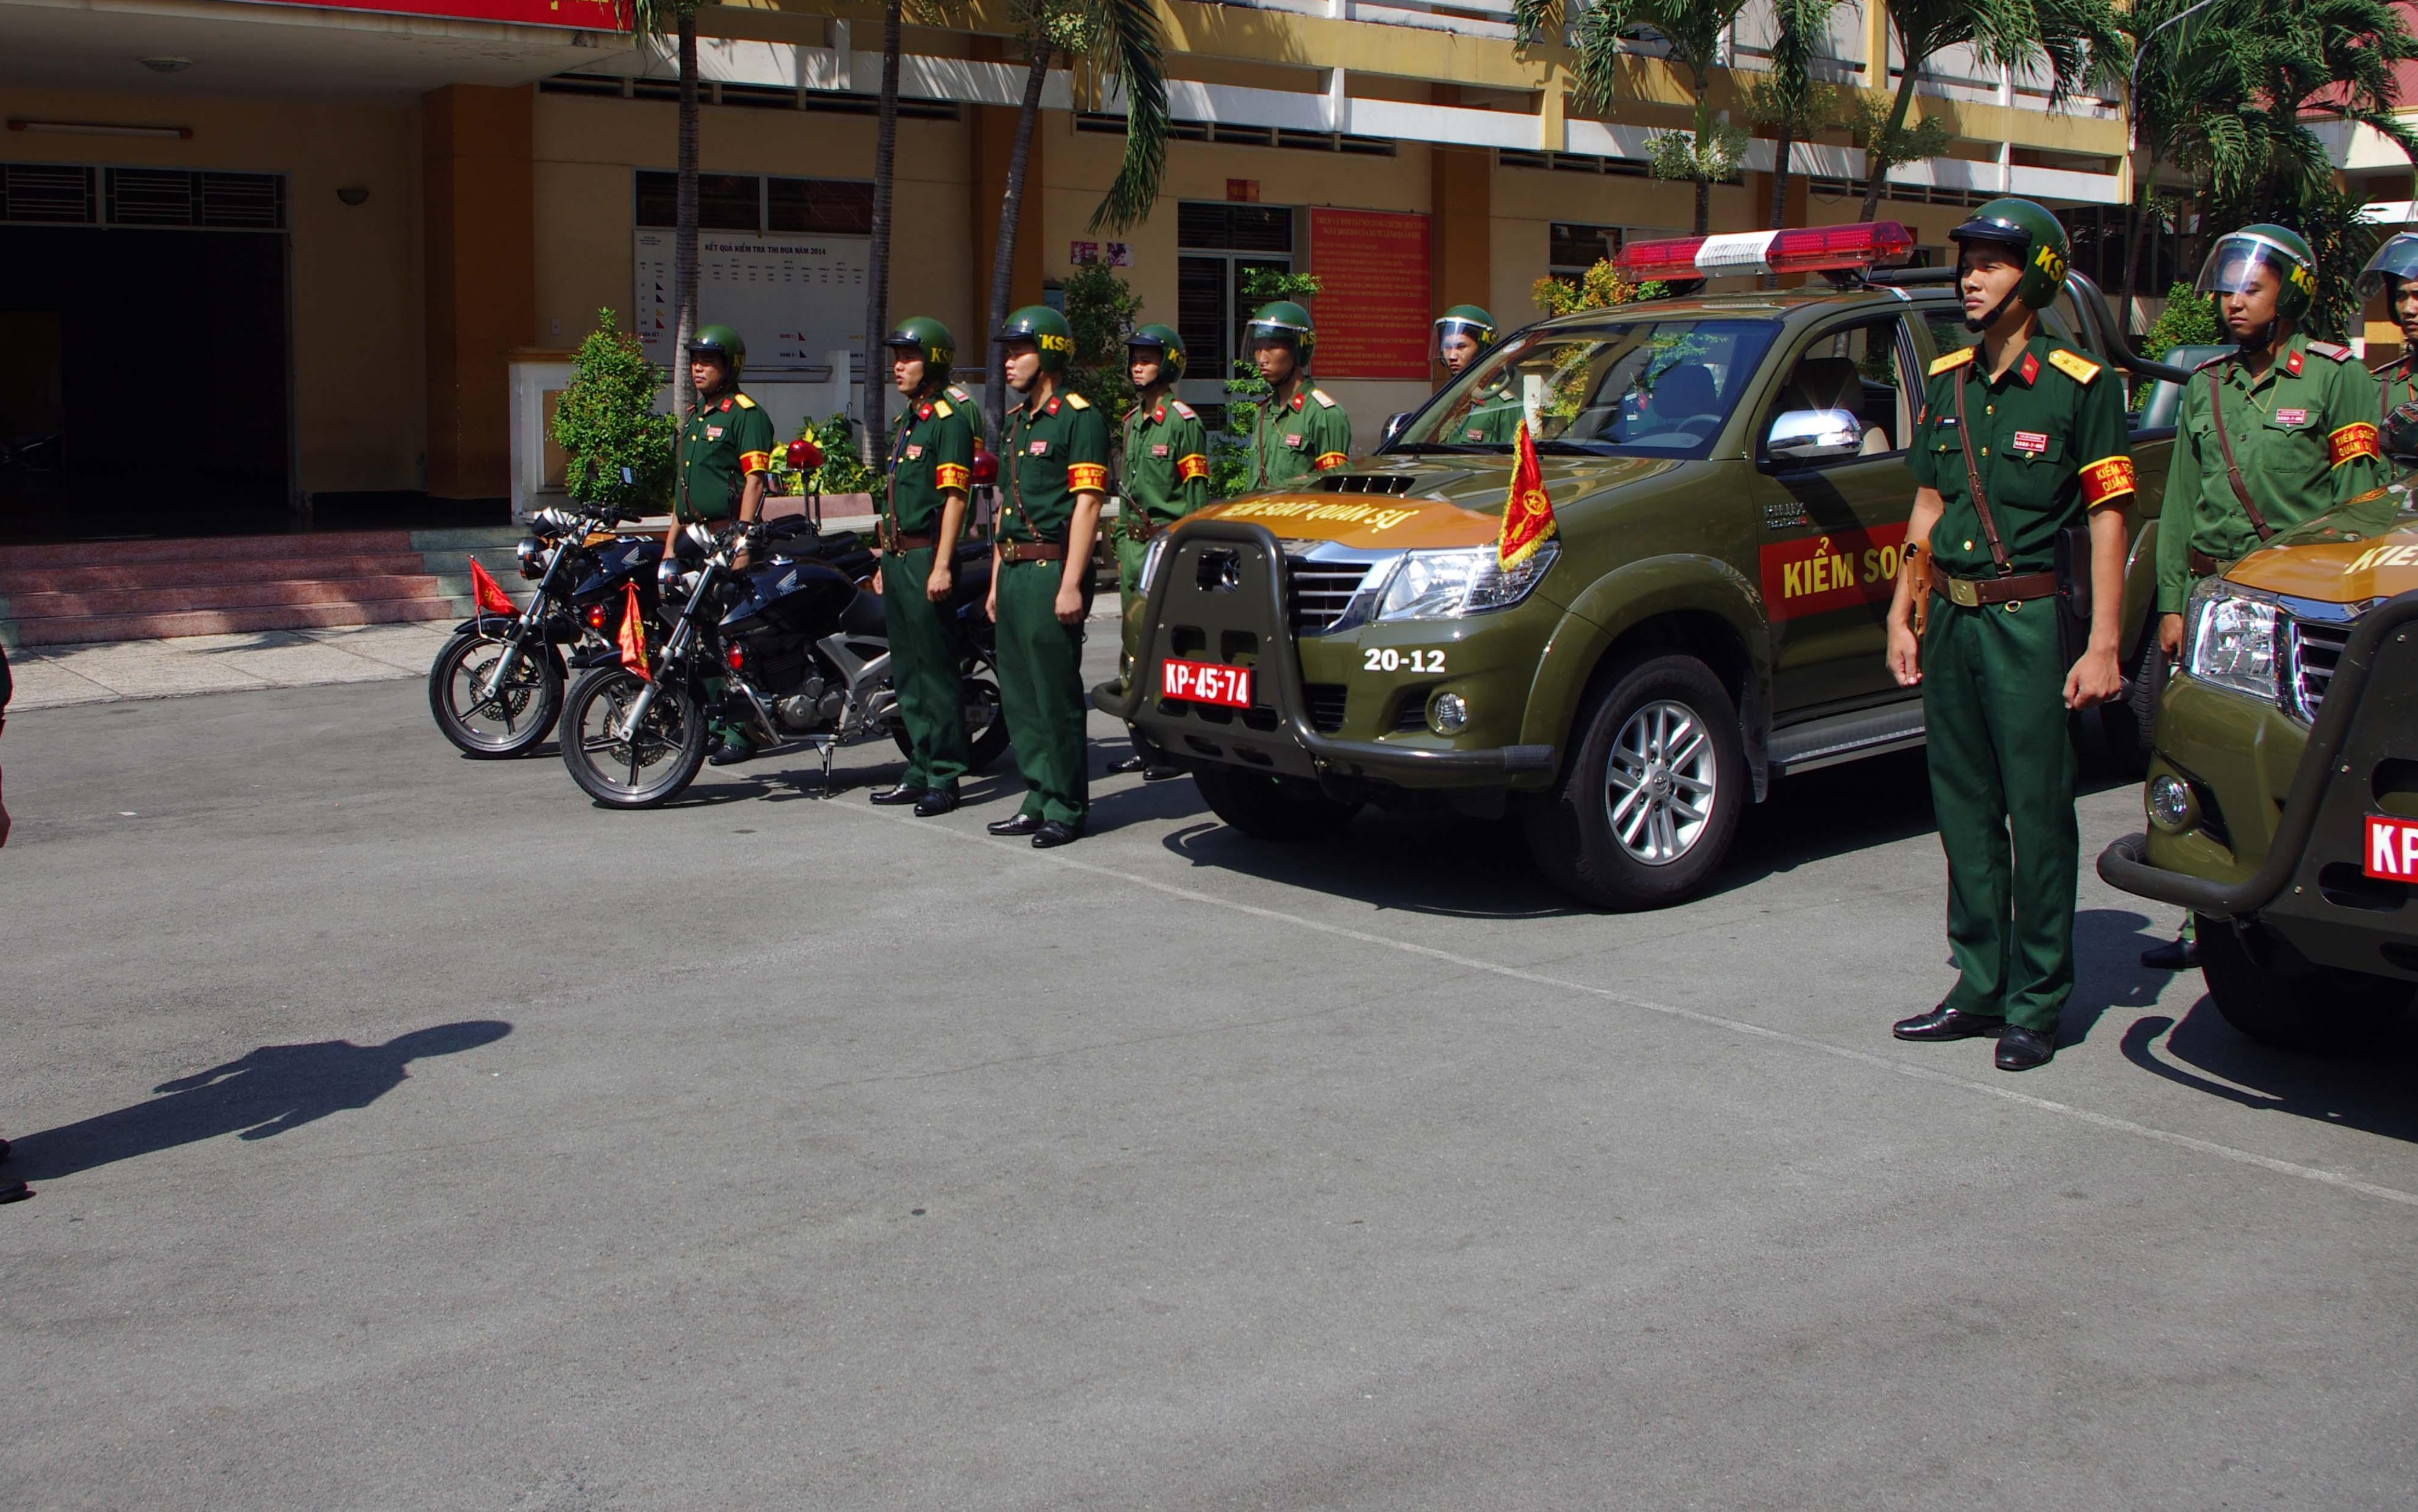plate: (1162, 652, 1259, 712)
